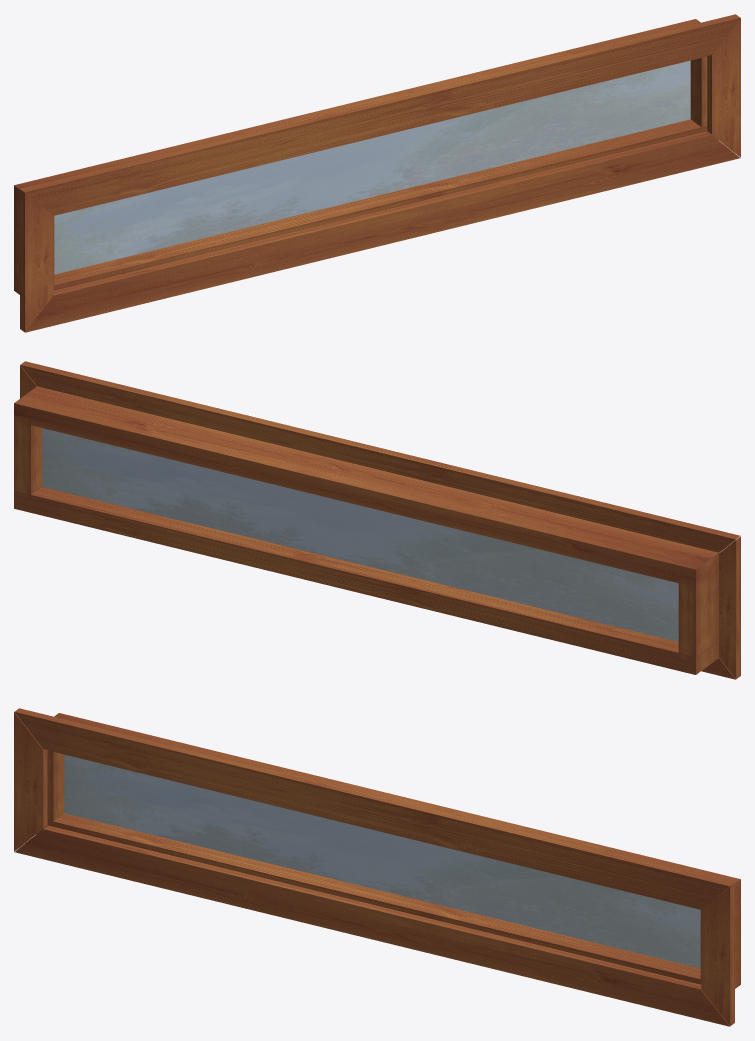
3 views of the same model, one above another, from view 1: azimuth 30°, elevation 25°; view 2: azimuth 150°, elevation 25°; view 3: azimuth 330°, elevation 25° (orthographic).
Visible parts, largest first — view 1: glass, trim_top, trim_bottom, box_bottom, box_top, trim_left, trim_right, box005, box001; view 2: glass, box_top, box_bottom, trim_top, box001, trim_left, box005; view 3: glass, trim_top, trim_bottom, box_bottom, box_top, trim_right, trim_left, box001, box005.
Part boxes in pixels (x1,y1,x2,y2): glass: (54,60,690,274); trim_top: (20,14,740,215); trim_bottom: (25,131,740,332); box_bottom: (14,119,718,294); box_top: (14,19,706,215); trim_left: (20,189,53,332); trim_right: (707,18,740,157); box005: (690,56,707,127); box001: (14,197,54,289); glass: (42,428,678,641); box_top: (14,386,718,587); box_bottom: (14,487,718,674); trim_top: (20,361,740,552); box001: (678,565,718,661); trim_left: (719,536,740,679); box005: (14,415,42,499); glass: (64,754,700,968); trim_top: (14,708,734,909); trim_bottom: (14,825,729,1026); box_bottom: (36,813,740,988); box_top: (53,713,740,909); trim_right: (701,883,734,1026); trim_left: (14,712,47,851); box001: (47,750,64,825); box005: (700,892,740,979).
Bounding box in the file's own units: 62.75 × 11.75 × 4.25.
4 materials, 4 textured.
